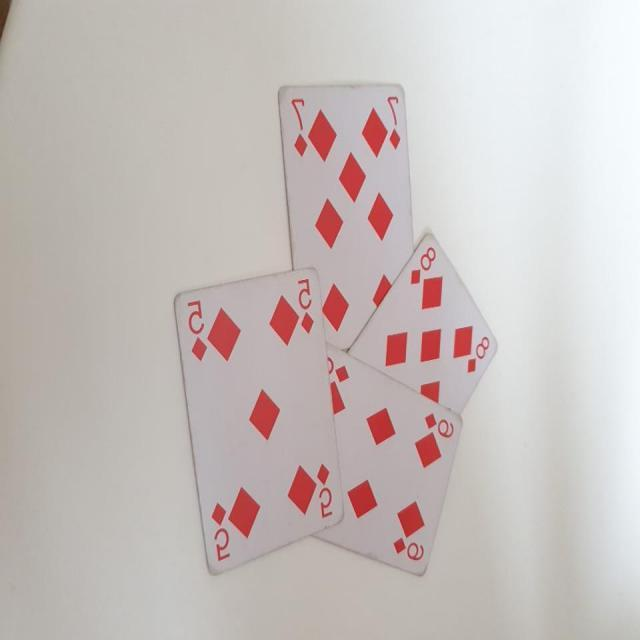5 of diamonds: (170, 257, 345, 574)
6 of diamonds: (306, 340, 464, 580)
7 of diamonds: (278, 82, 416, 353)
8 of diamonds: (344, 231, 498, 416)
